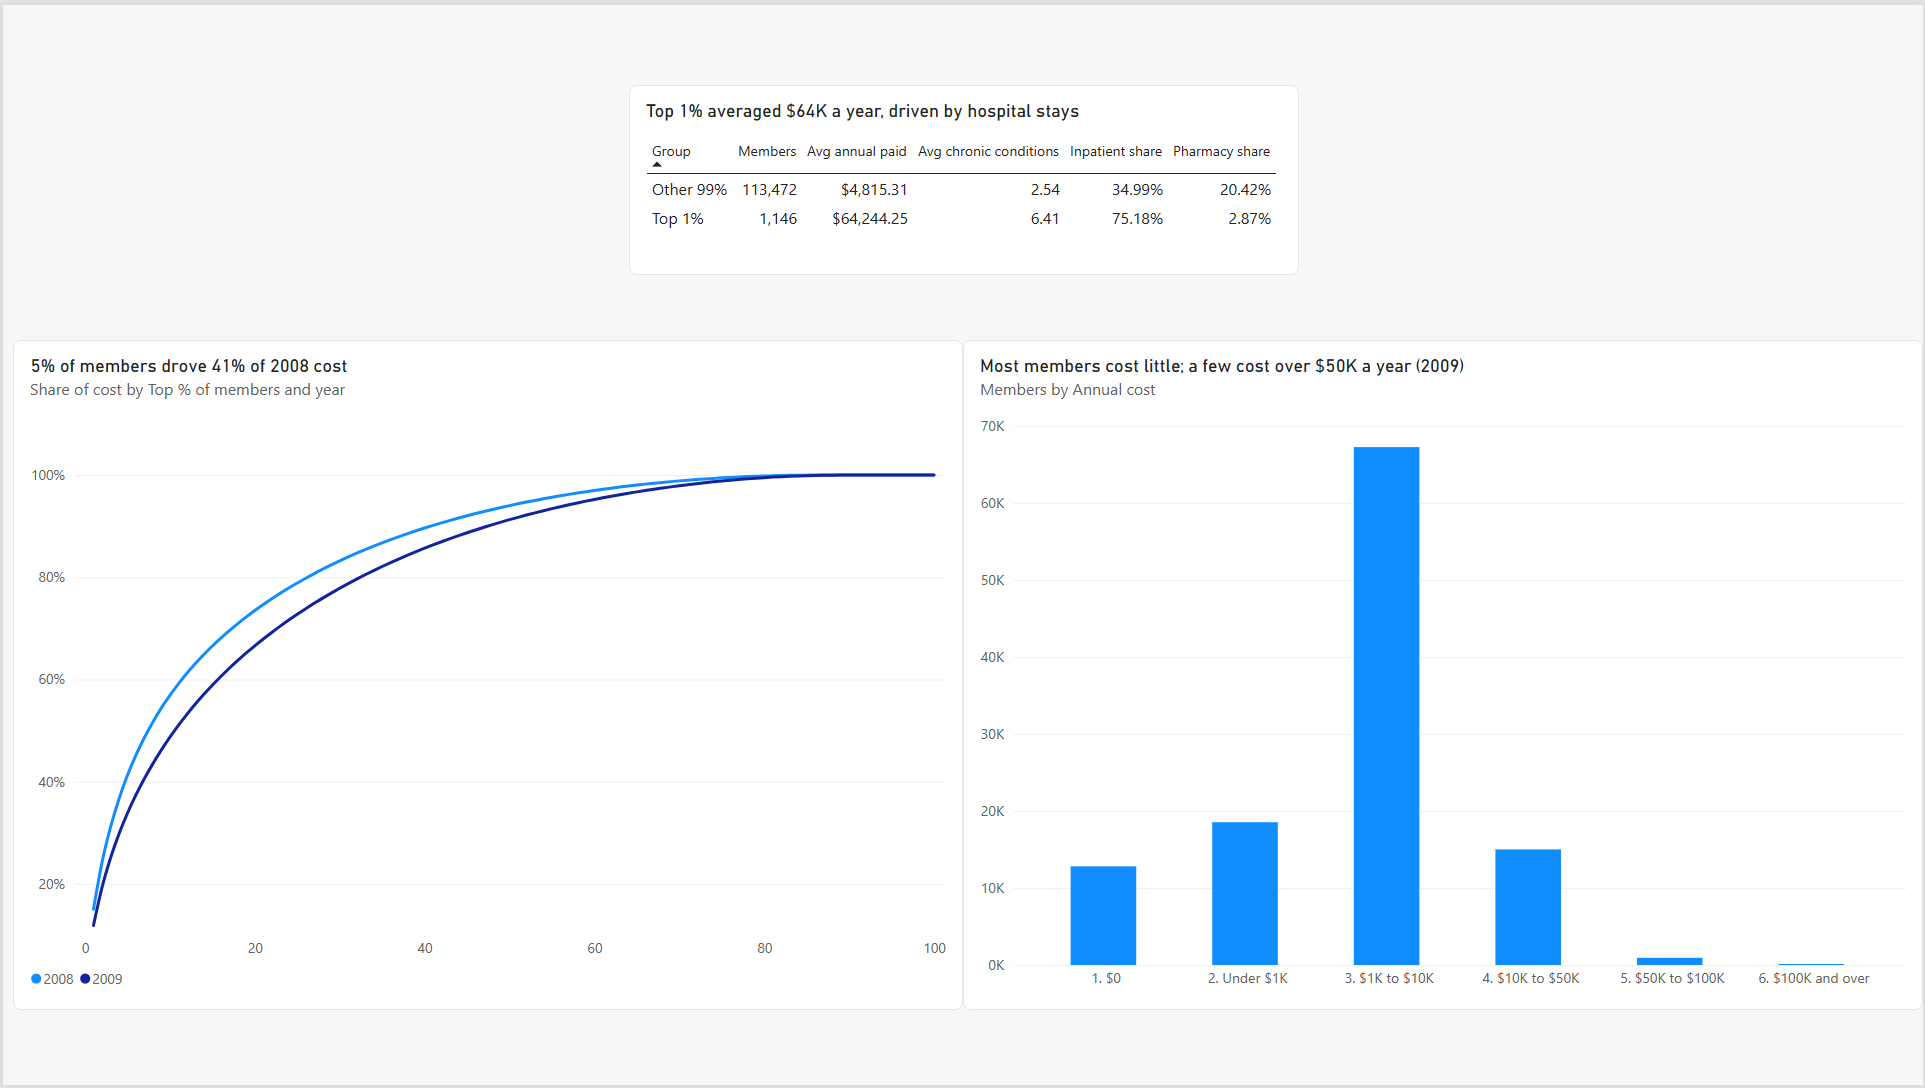

This screenshot's page, from the dashboard's own definition file:
{"tool":"powerbi","page":{"name":"High Cost Claimants","canvas":[1920,1080],"ordinal":2},"visuals":[{"type":"lineChart","title":"5% of members drove 41% of 2008 cost","fields":{"Category":["cost_concentration.top_pct_of_members"],"Series":["Year.year"],"Y":["Sum(cost_concentration.cum_share_of_cost)"]},"box":[10,335,950,670],"z":0},{"type":"clusteredColumnChart","title":"Most members cost little; a few cost over $50K a year (2009)","fields":{"Category":["cost_bands.cost_band"],"Y":["Sum(cost_bands.members)"]},"box":[960,335,960,670],"z":1000},{"type":"tableEx","title":"Top 1% averaged $64K a year, driven by hospital stays","fields":{"Values":["hcc_profile.member_group","Sum(hcc_profile.members)","Sum(hcc_profile.avg_annual_paid)","Sum(hcc_profile.avg_chronic_conditions)","Sum(hcc_profile.share_inpatient)","Sum(hcc_profile.share_pharmacy)"]},"box":[626,80,670,190],"z":2000}]}

Visuals, with their boxes in screenshot pixels (x1, y1, x2, y2), scaled from the page's 1920x1080 canvas onto the 1925x1088 screenshot:
"5% of members drove 41% of 2008 cost" lineChart: bbox(10, 337, 963, 1012)
"Most members cost little; a few cost over $50K a year (2009)" clusteredColumnChart: bbox(963, 337, 1924, 1012)
"Top 1% averaged $64K a year, driven by hospital stays" tableEx: bbox(628, 81, 1299, 272)
